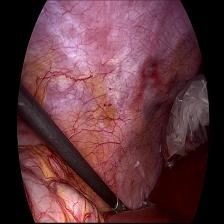Specimen Bag: (160, 76, 212, 173)
